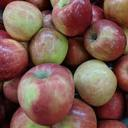apple: (83, 19, 128, 61)
